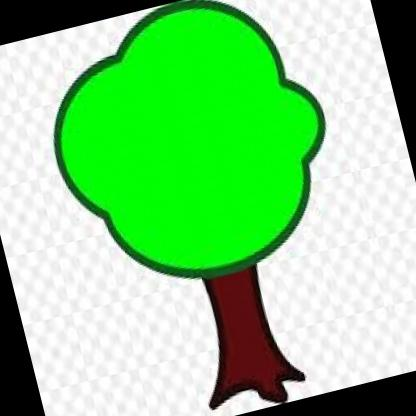crown_cloud: (28, 0, 354, 301)
root_only: (202, 358, 311, 416)
trunk_straight: (191, 272, 292, 381)
